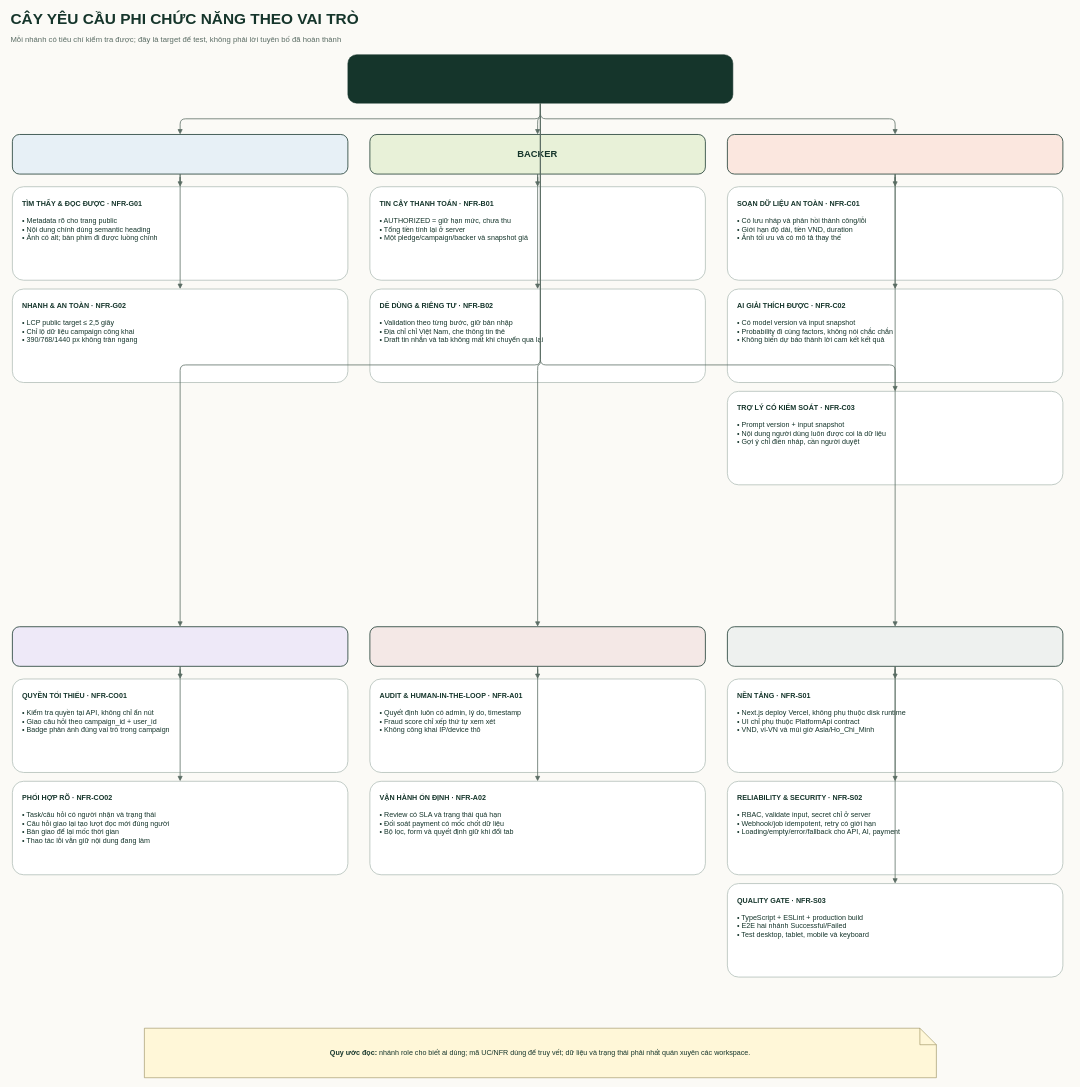
This 1080x1087 diagram has some shape labels left out. The shapes that lost their labels are listed below. From the top down, each one's centre as x and y in pixels, then its label:
At point (540, 78): "GÓP CROWDFUNDING PLATFORM Web responsive · dữ liệu VND · nhóm 2 sinh viên".
At point (180, 154): "GUEST".
At point (895, 154): "CREATOR".
At point (180, 646): "COLLABORATOR".
At point (537, 646): "ADMIN".
At point (895, 646): "SHARED / WORKER".
